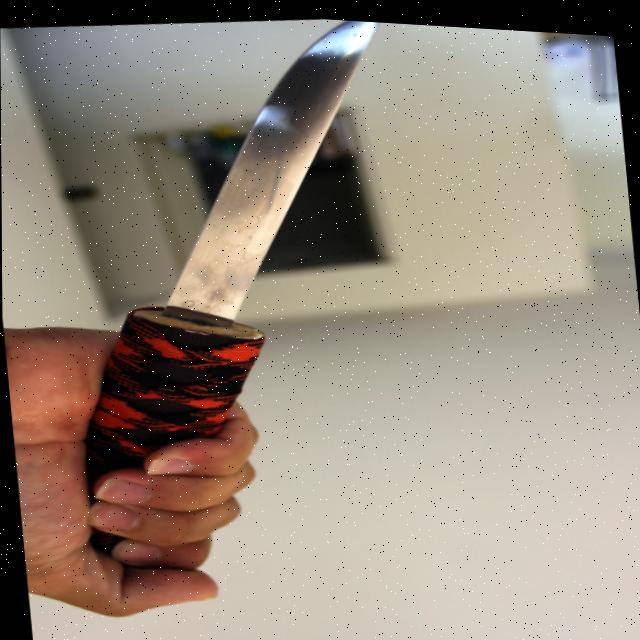knife: (33, 2, 448, 579)
